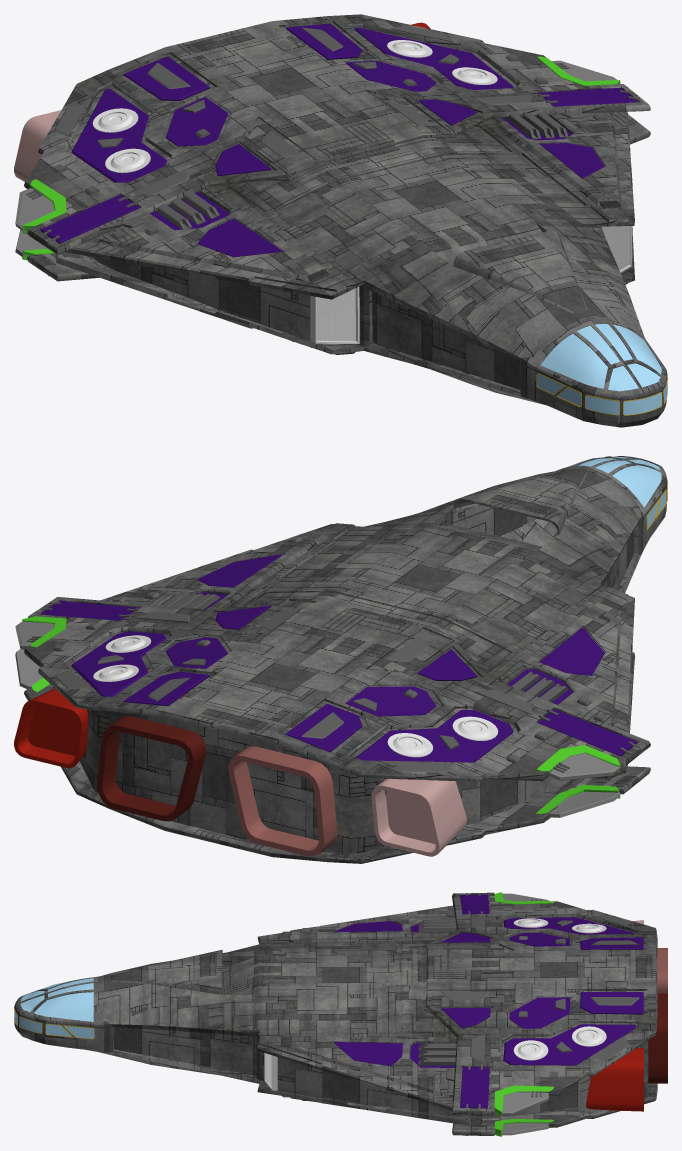
File: ShipHull_GreeblesTest 1.fbx
3 renders of one model, top to bottom at view 1: azimuth 30°, elevation 25°; view 2: azimuth 150°, elevation 25°; view 3: azimuth 270°, elevation 25°, orthographic. The views are drawn at different scales.
Parts seen in each view (by area): view 1: ShipHull_Main001, AuxHull_PlatingPanels001, Cockpit_Windows001, Greeble_SetUV_056, ShipHull_WingflapMain001, ThrusterCone_008, Greeble_SetUV_061, Greeble_SetUV_060, ShipHull_Wingflaps_Body001, Greeble_SetUV_084, Greeble_SetUV_081, Greeble_SetUV_082 (+4 smaller); view 2: ShipHull_Main001, AuxHull_PlatingPanels001, ThrusterCone_008, ThrusterCone_007, ThrusterCone_006, ThrusterCone_005, ShipHull_WingflapMain001, ShipHull_Wingflaps_Body001, Cockpit_Windows001, Greeble_SetUV_061, Greeble_SetUV_060, Greeble_SetUV_081 (+3 smaller); view 3: ShipHull_Main001, AuxHull_PlatingPanels001, Cockpit_Windows001, ThrusterCone_005, ShipHull_WingflapMain001, ThrusterCone_006, ShipHull_Wingflaps_Body001, Greeble_SetUV_061, Greeble_SetUV_060, Greeble_SetUV_082, Greeble_SetUV_085, Greeble_SetUV_081 (+6 smaller).
Boxes of the visible parts, left/top/right/bottom form: ShipHull_Main001: left=24, top=14, right=667, bottom=427; AuxHull_PlatingPanels001: left=40, top=23, right=637, bottom=257; Cockpit_Windows001: left=537, top=323, right=667, bottom=415; Greeble_SetUV_056: left=310, top=226, right=631, bottom=343; ShipHull_WingflapMain001: left=15, top=60, right=620, bottom=257; ThrusterCone_008: left=14, top=110, right=61, bottom=181; Greeble_SetUV_061: left=92, top=40, right=432, bottom=132; Greeble_SetUV_060: left=105, top=67, right=497, bottom=173; ShipHull_Wingflaps_Body001: left=22, top=56, right=620, bottom=260; Greeble_SetUV_084: left=134, top=95, right=531, bottom=195; Greeble_SetUV_081: left=54, top=25, right=453, bottom=136; Greeble_SetUV_082: left=260, top=102, right=428, bottom=157; ShipHull_Main001: left=24, top=456, right=667, bottom=863; AuxHull_PlatingPanels001: left=40, top=554, right=637, bottom=762; ThrusterCone_008: left=371, top=778, right=466, bottom=856; ThrusterCone_007: left=228, top=746, right=337, bottom=856; ThrusterCone_006: left=97, top=716, right=205, bottom=821; ThrusterCone_005: left=14, top=688, right=88, bottom=768; ShipHull_WingflapMain001: left=15, top=621, right=620, bottom=817; ShipHull_Wingflaps_Body001: left=22, top=616, right=620, bottom=819; Cockpit_Windows001: left=568, top=457, right=666, bottom=528; Greeble_SetUV_061: left=93, top=664, right=433, bottom=757; Greeble_SetUV_060: left=105, top=635, right=498, bottom=740; Greeble_SetUV_081: left=55, top=669, right=453, bottom=772; ShipHull_Main001: left=14, top=892, right=657, bottom=1135; AuxHull_PlatingPanels001: left=333, top=894, right=643, bottom=1108; Cockpit_Windows001: left=14, top=978, right=94, bottom=1038; ThrusterCone_005: left=586, top=1048, right=643, bottom=1111; ShipHull_WingflapMain001: left=501, top=893, right=548, bottom=1135; ThrusterCone_006: left=648, top=993, right=667, bottom=1083; ShipHull_Wingflaps_Body001: left=494, top=892, right=553, bottom=1136; Greeble_SetUV_061: left=572, top=923, right=606, bottom=1046; Greeble_SetUV_060: left=513, top=918, right=548, bottom=1060; Greeble_SetUV_082: left=441, top=945, right=490, bottom=1000; Greeble_SetUV_085: left=591, top=940, right=639, bottom=1005; Greeble_SetUV_081: left=592, top=915, right=629, bottom=1059.
Size of the model in its own units: 3885 by 772 by 4886.
